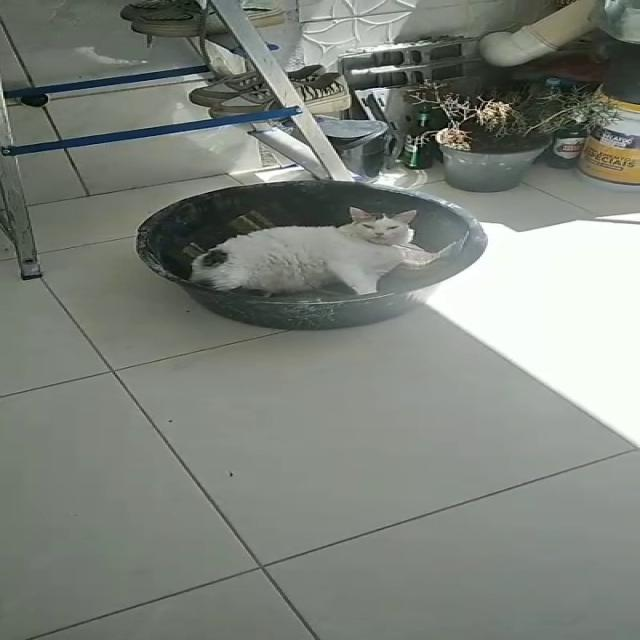Simba: (189, 205, 473, 294)
